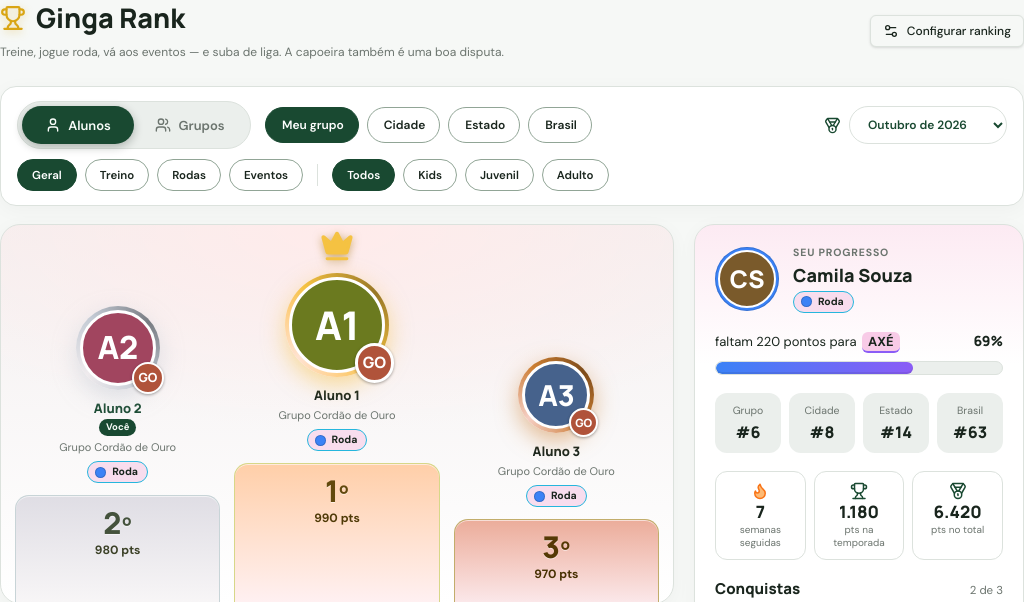
Test: Ginga Rank › menor sem autorização: explica que o responsável precisa autorizar e bloqueia o switch (nada é enviado)
The width and height of the screenshot is (1024, 602).
Click the button with aria-label "Configurar ranking".
click(947, 31)  # box x1=870 y1=15 x2=1023 y2=47
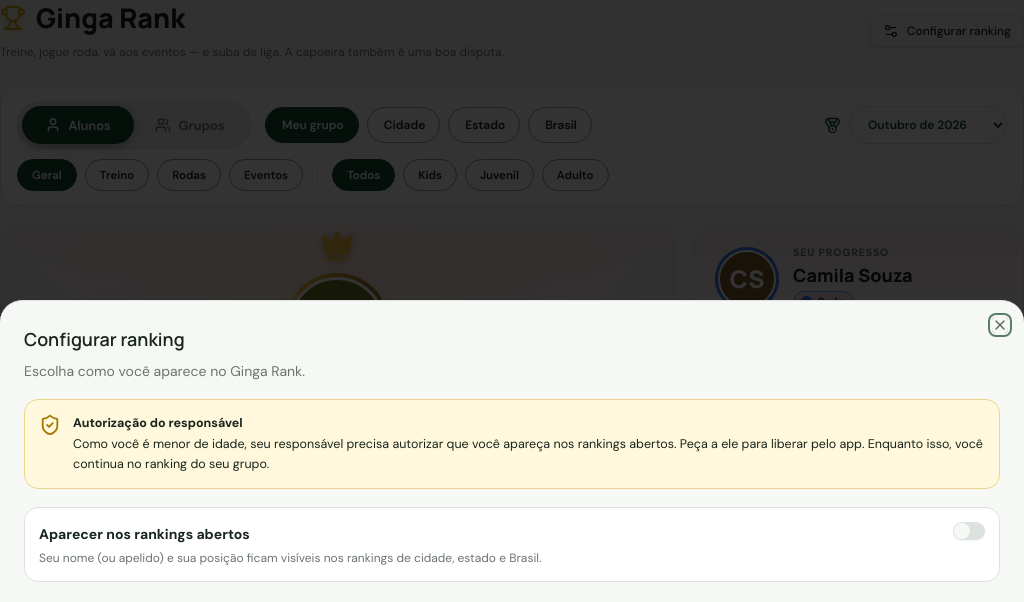
Result: the element with test id "rk-guardian-note" shows "responsável precisa autorizar" at x1=73 y1=436 x2=983 y2=472
Result: the switch is disabled at x1=953 y1=522 x2=985 y2=540
